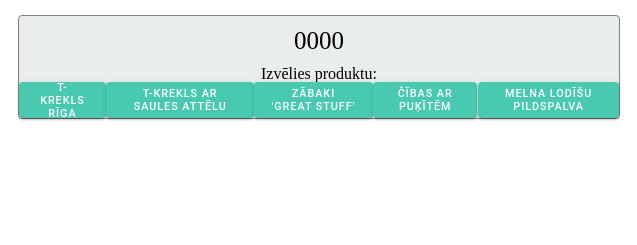
Test case: should be able to show correct item code when selection is made
Click the button "T-krekls Rīga". click: x=62, y=100
box: [19,82,106,118]
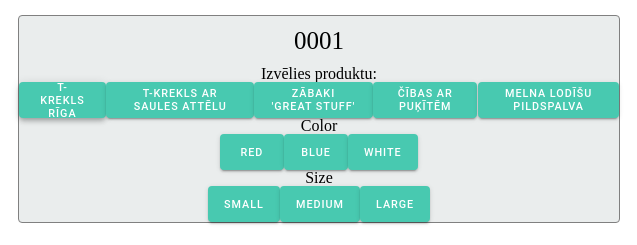
Expected: the number of buttons is 11
Click the button "White". click: x=383, y=152
box: [348,134,418,170]
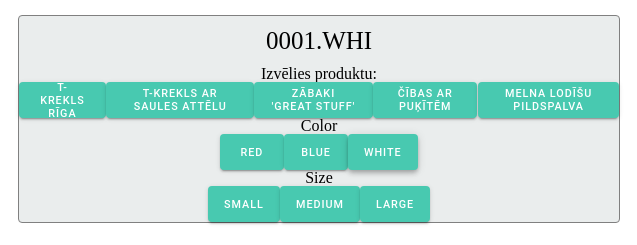
Click the button "Medium". click: x=320, y=204
box: [280,186,360,222]
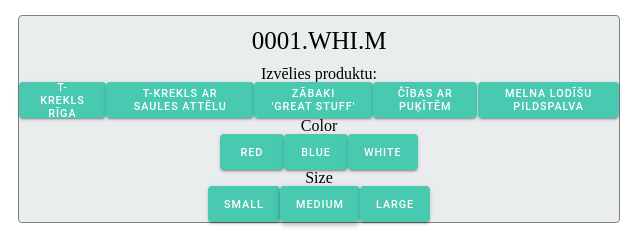
Expected: the button "White" is shown, [348,134,418,170]
Expected: the button "Medium" is shown, [280,186,360,222]
Expected: the text "0001.WHI.M" is shown, [252,27,386,54]
